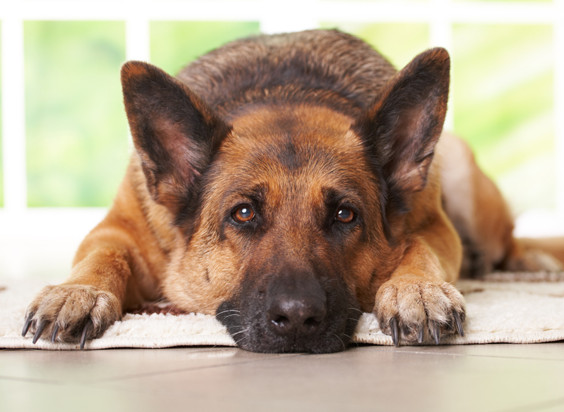dog: (0, 0, 564, 412)
